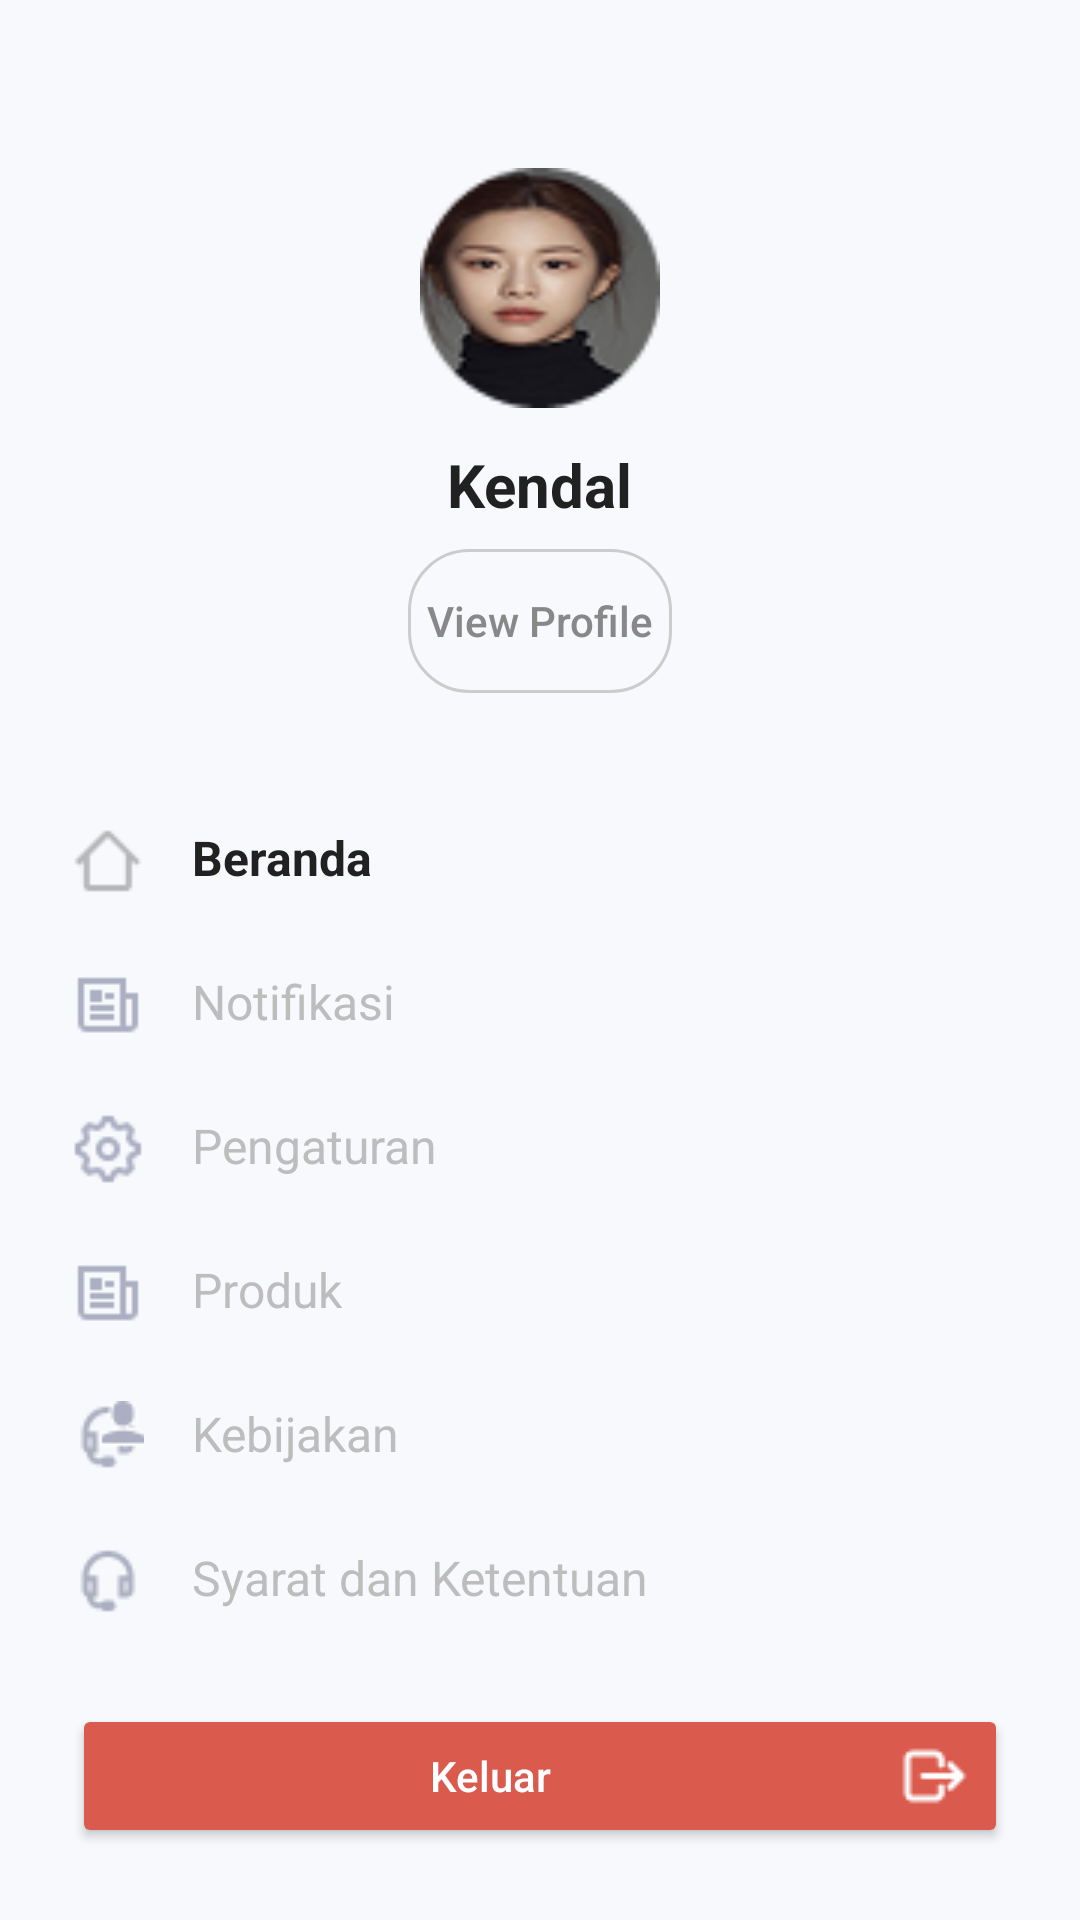

Where to tap for icons on this 1080px x 1920px app screen, as (x=x, y=y):
home: (x=108, y=861)
settings: (x=108, y=1149)
user profile: (x=540, y=288)
